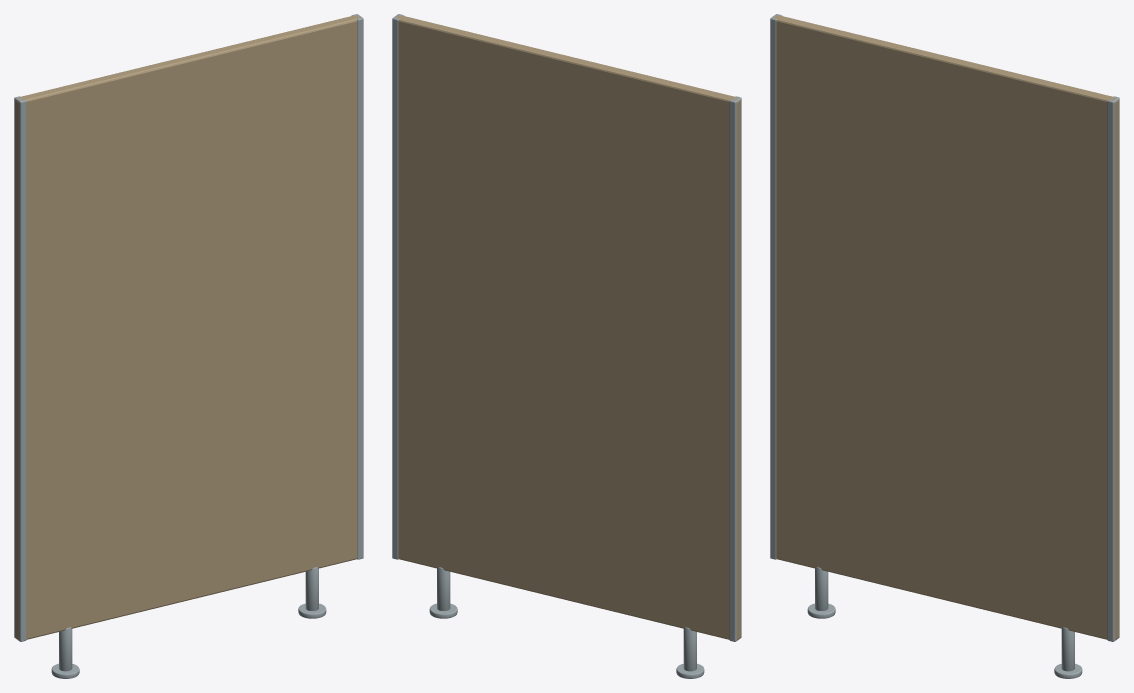
File: OAA_Stall_Panel_120.fbx
3 views of the same model, side by side, from view 1: azimuth 30°, elevation 25°; view 2: azimuth 150°, elevation 25°; view 3: azimuth 330°, elevation 25° (orthographic).
Visible parts, largest first — view 1: Body; view 2: Body; view 3: Body.
Part boxes in pixels (x1,y1,x2,y2): Body: (14, 14, 363, 678); Body: (392, 14, 741, 678); Body: (770, 14, 1119, 678).
Size of the model in its own units: 1.2 by 1.95 by 0.084.
